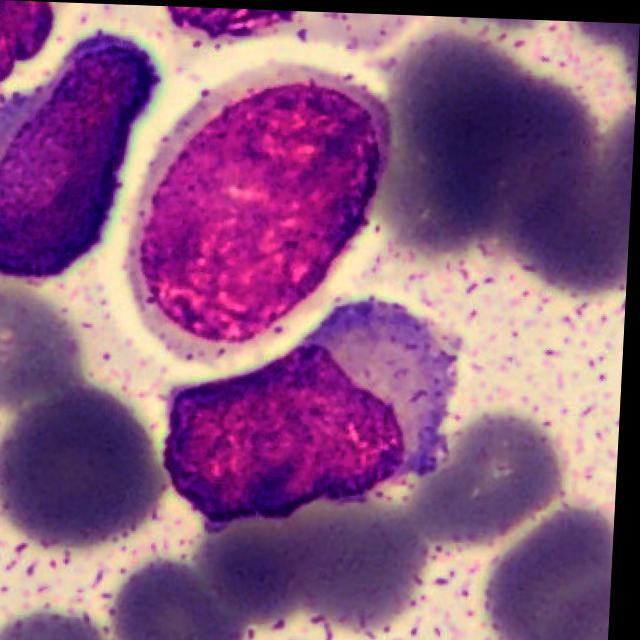Mieloblasto: (125, 62, 392, 352), (166, 295, 460, 532)
